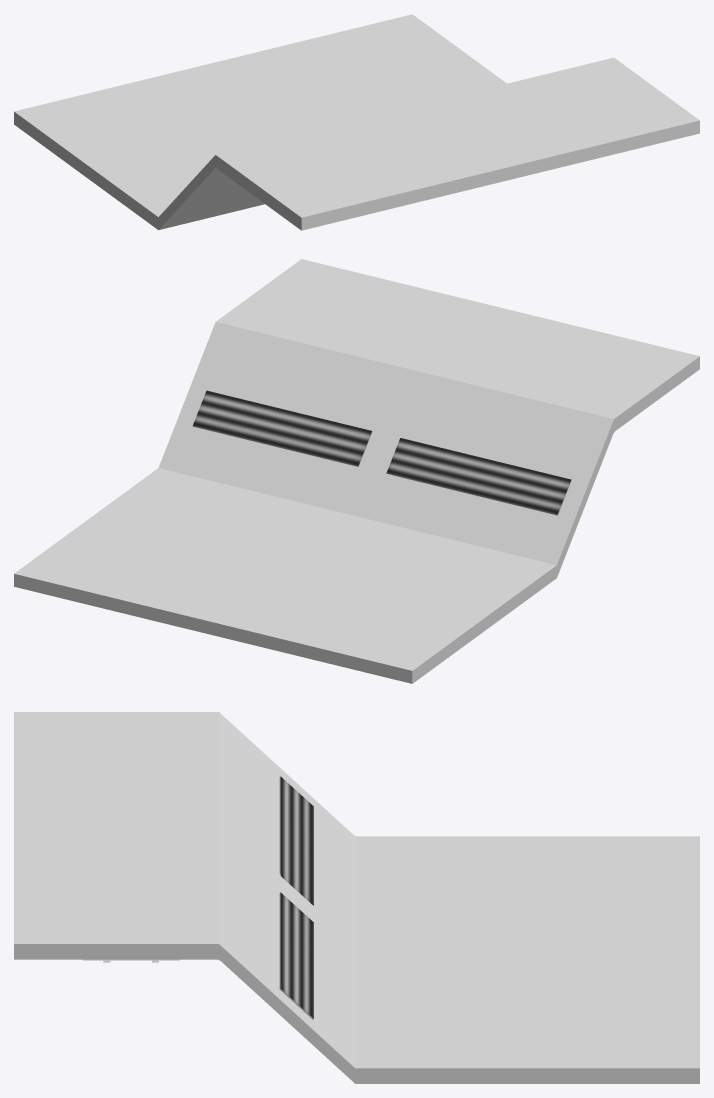
Rendered from ceiling_09.fbx.
3 renders of one model, top to bottom at view 1: azimuth 30°, elevation 25°; view 2: azimuth 150°, elevation 25°; view 3: azimuth 270°, elevation 25°, orthographic. The views are drawn at different scales.
Parts seen in each view (by area): view 1: Cube.428; view 2: Cube.428, Plane.533; view 3: Cube.428, Plane.533.
Part boxes in pixels (box(x1,y1,x2,y2)): Cube.428: box(14, 14, 699, 230); Cube.428: box(14, 259, 699, 683); Plane.533: box(193, 390, 571, 515); Cube.428: box(14, 712, 699, 1083); Plane.533: box(280, 777, 313, 1018).
Size of the model in its own units: 8.11 by 2.25 by 10.
